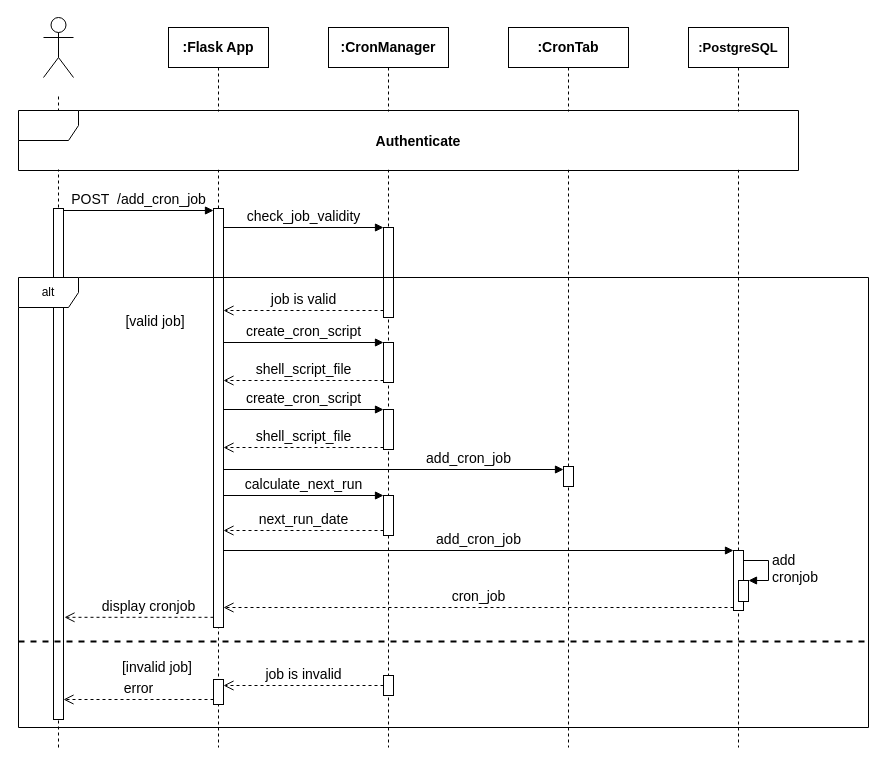
Some shapes in this 888 by 766 pixel diagram are drawn without their labels. The shapes that lost their labels are listed below. From the top down, each one's centre as x and y in pixels, then its label:
At (58,47): "Actor".
At (408,140): "ref".
